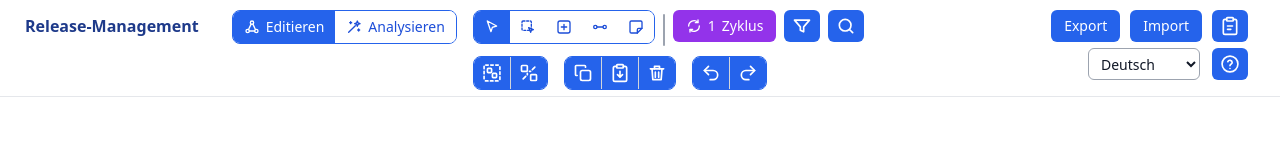
Test: Toolbar › cycle warning › uses the singular for one cycle and explains itself in a tooltip
Hover over the button "1 Zyklus" at (725, 26), box [673,10,776,42]
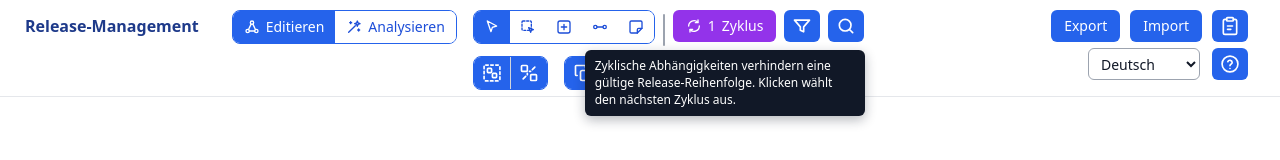
Check: the tooltip shows "Zyklische Abhängigkeiten verhindern", box [595,57,832,108]
